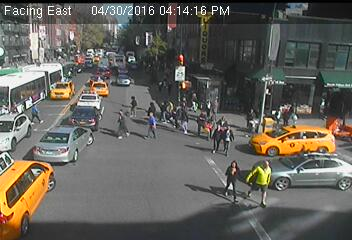neg: (26, 132, 71, 191), (242, 43, 278, 92), (114, 179, 150, 227), (169, 7, 188, 32)
